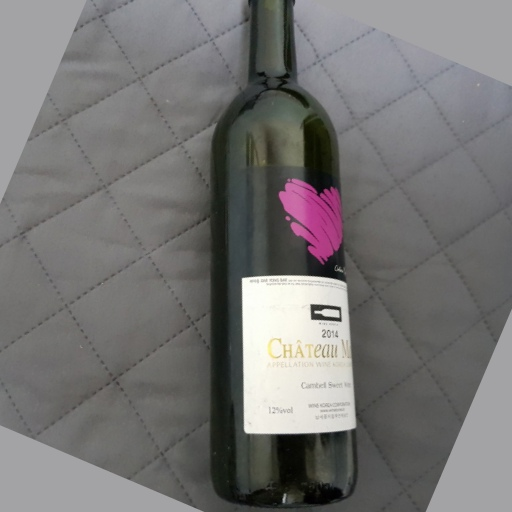Glass_2: (201, 2, 361, 512)
